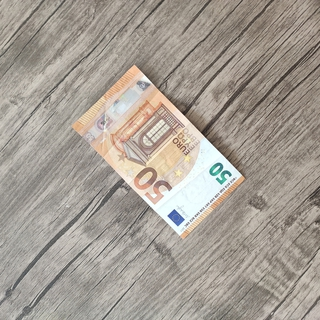50EUROFront: (69, 62, 247, 242)
